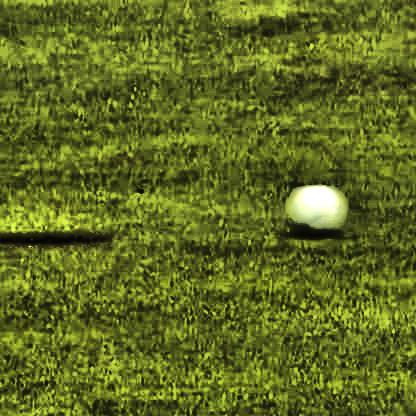golfball: (286, 186, 342, 234)
